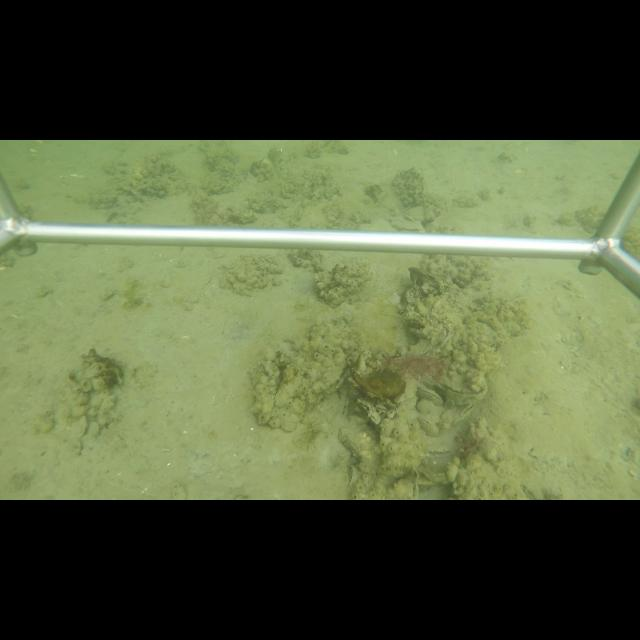Oyster-Closed: (310, 346, 349, 395), (335, 424, 379, 465), (436, 375, 488, 401), (408, 266, 442, 295), (453, 402, 476, 426), (417, 385, 444, 405)
Oyster-Open: (353, 396, 381, 426), (419, 438, 455, 458)
